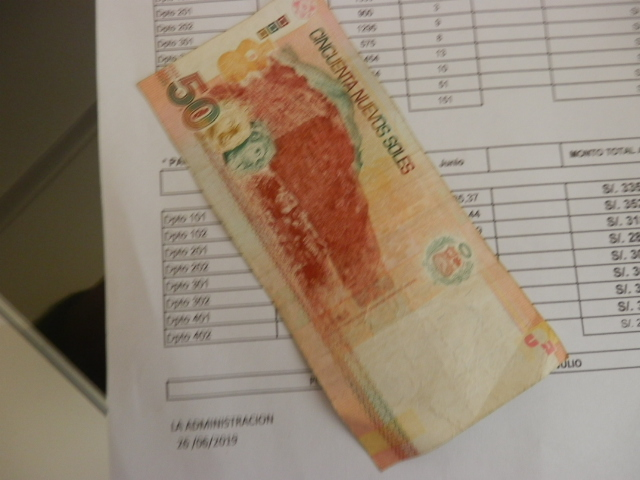B50: (129, 10, 579, 468)
